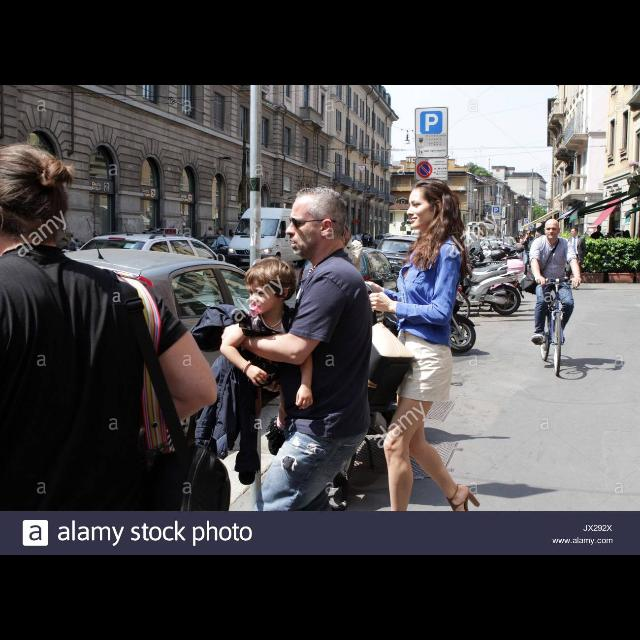head: (0, 142, 68, 264), (285, 186, 351, 258), (245, 258, 295, 316), (406, 179, 456, 231), (544, 218, 562, 240), (570, 228, 580, 236), (526, 230, 532, 238), (596, 226, 602, 232), (520, 234, 526, 240), (218, 230, 222, 236), (208, 227, 212, 231)
person: (342, 176, 486, 556), (218, 255, 318, 491), (528, 217, 584, 347), (563, 228, 589, 286), (520, 229, 538, 277), (588, 225, 606, 271), (518, 234, 532, 268), (202, 226, 215, 254), (215, 230, 225, 258)
